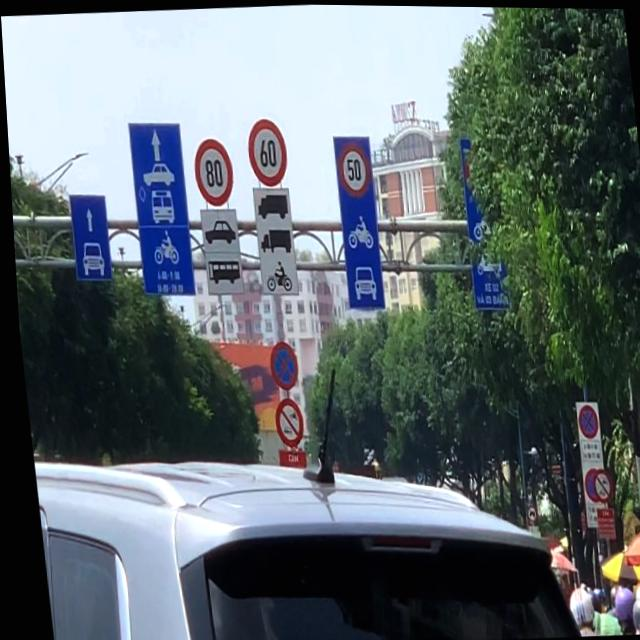Cam dung xe va do xe: (262, 338, 297, 391), (571, 400, 596, 439)
Toc do toi da cho phep: (186, 131, 239, 208), (241, 110, 289, 184), (329, 136, 368, 203)
